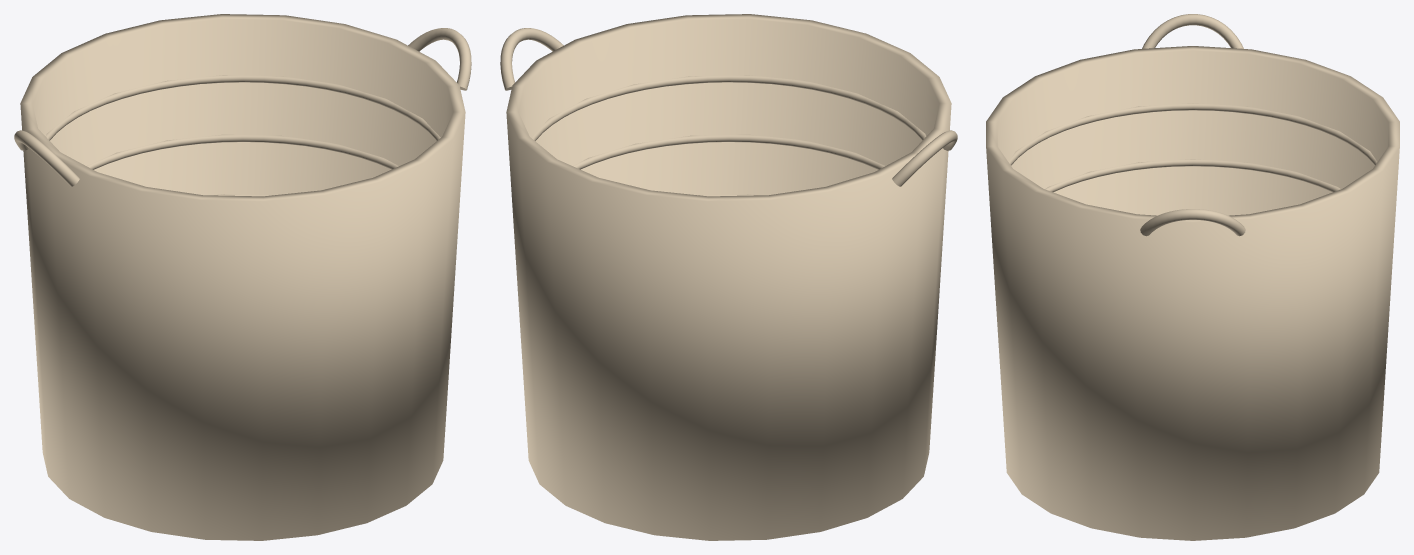
Rendered from i_basket_3.glb.
3 views of the same model, side by side, from view 1: azimuth 30°, elevation 25°; view 2: azimuth 150°, elevation 25°; view 3: azimuth 270°, elevation 25° (orthographic). The views are drawn at different scales.
Parts seen in each view (by area): view 1: o, o.005, o.004, o.007, o.006; view 2: o, o.005, o.004, o.007, o.006; view 3: o, o.005, o.004, o.006, o.007.
Boxes of the visible parts, <box> form: o: <box>20,14,465,540</box>; o.005: <box>45,75,440,140</box>; o.004: <box>86,134,398,169</box>; o.007: <box>408,28,471,90</box>; o.006: <box>14,130,79,186</box>; o: <box>506,14,951,540</box>; o.005: <box>531,75,926,140</box>; o.004: <box>573,134,885,169</box>; o.007: <box>500,28,563,90</box>; o.006: <box>892,130,957,186</box>; o: <box>986,46,1399,540</box>; o.005: <box>1008,103,1377,165</box>; o.004: <box>1045,159,1340,192</box>; o.006: <box>1142,14,1243,48</box>; o.007: <box>1140,209,1245,236</box>.
Size of the model in its own units: 0.4967 by 0.4058 by 0.4355.
